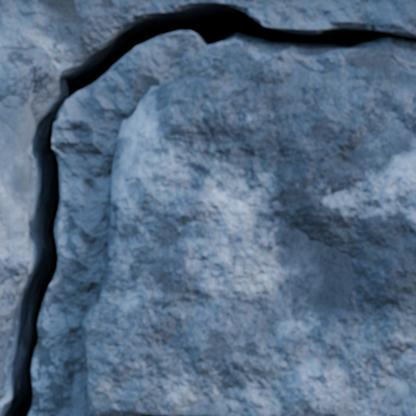brick: (82, 46, 415, 415)
broken_brick: (0, 46, 59, 384), (0, 390, 2, 402)
crack: (0, 2, 415, 415)
